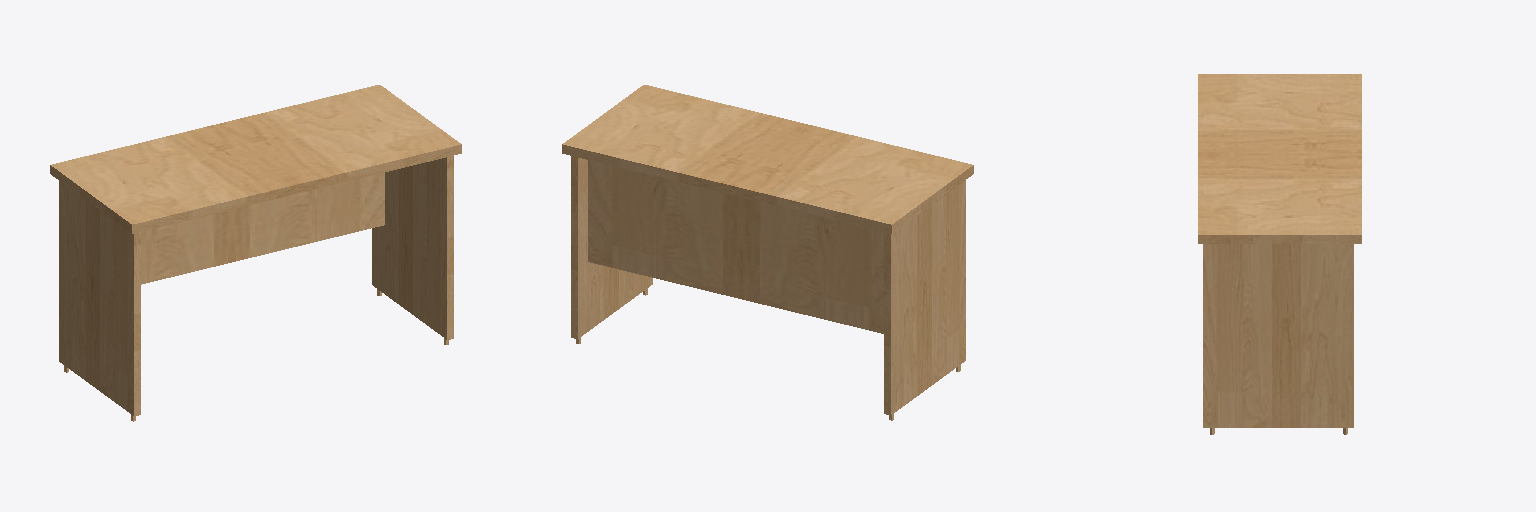
The picture shows the model from 3 angles: view 1: azimuth 30°, elevation 25°; view 2: azimuth 150°, elevation 25°; view 3: azimuth 270°, elevation 25°; orthographic projection.
Visible parts, largest first — view 1: desk; view 2: desk; view 3: desk.
Part boxes in pixels (x1,y1,x2,y2): desk: (50,85,461,421); desk: (562,85,973,420); desk: (1198,74,1361,434).
Size of the model in its own units: 15 by 8.81 by 6.45.
Materials: 1 (1 with a texture image).